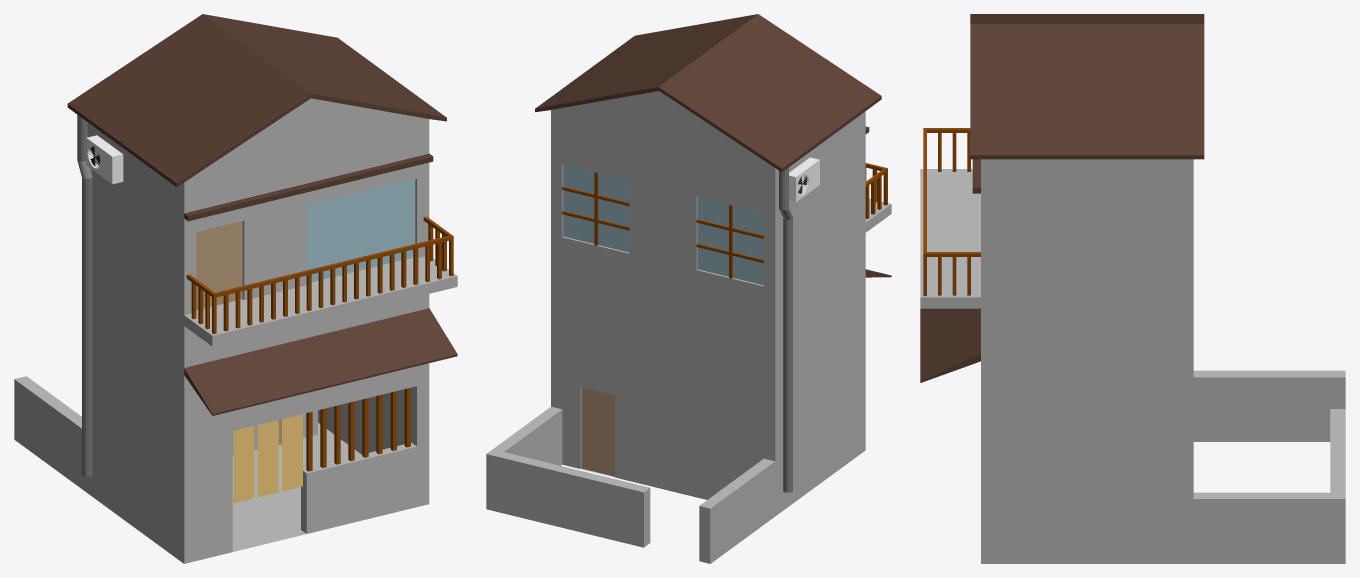
Rendered from ticket.glb.
3 views of the same model, side by side, from view 1: azimuth 30°, elevation 25°; view 2: azimuth 150°, elevation 25°; view 3: azimuth 270°, elevation 25° (orthographic). The views are drawn at different scales.
Visible parts, largest first — view 1: Building; view 2: Building; view 3: Building.
Boxes of the visible parts, bbox=[...] form: Building: bbox=[14, 14, 457, 563]; Building: bbox=[486, 14, 891, 563]; Building: bbox=[920, 14, 1345, 563].
Size of the model in its own units: 5.1 by 8 by 6.48.
